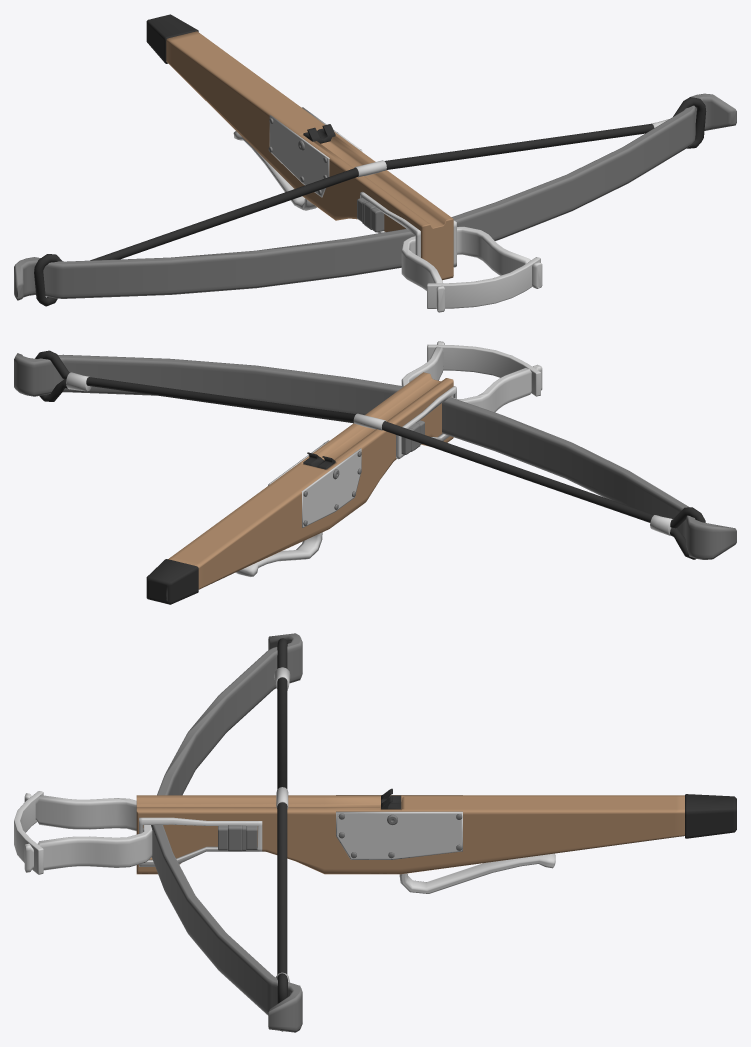
File: xbow.fbx
3 views of the same model, one above another, from view 1: azimuth 30°, elevation 25°; view 2: azimuth 150°, elevation 25°; view 3: azimuth 270°, elevation 25° (orthographic). The views are drawn at different scales.
Parts seen in each view (by area): view 1: Cube.003; view 2: Cube.003; view 3: Cube.003.
Boxes of the visible parts, box(x1,y1,x2,y2) form: Cube.003: box(14, 14, 736, 312); Cube.003: box(14, 341, 736, 604); Cube.003: box(14, 633, 736, 1032).
Bounding box in the file's own units: 200 × 24.1 × 162.
1 material, 1 textured.
